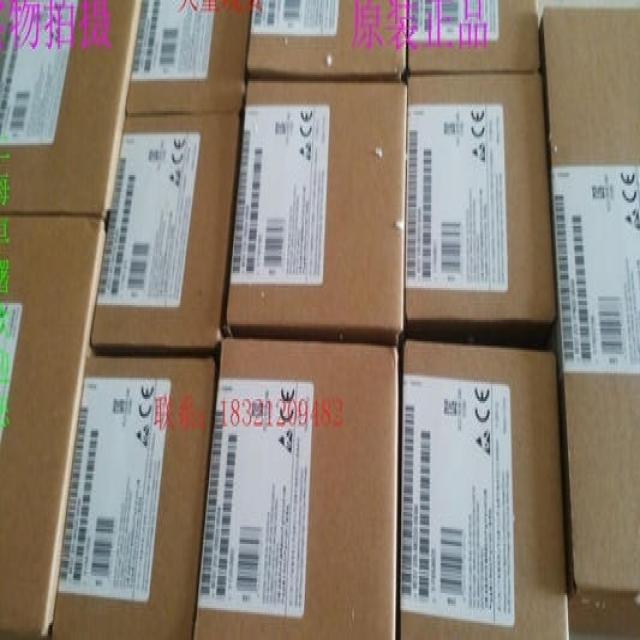box: (538, 6, 640, 640), (193, 339, 400, 640), (397, 339, 569, 640), (50, 354, 220, 640), (226, 79, 408, 346), (0, 213, 107, 640), (405, 70, 557, 350), (90, 111, 244, 356), (125, 0, 251, 113), (245, 0, 406, 81), (407, 0, 542, 73)
